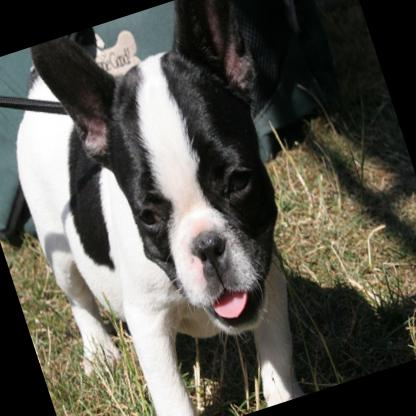French_bulldog: (0, 0, 356, 416)
